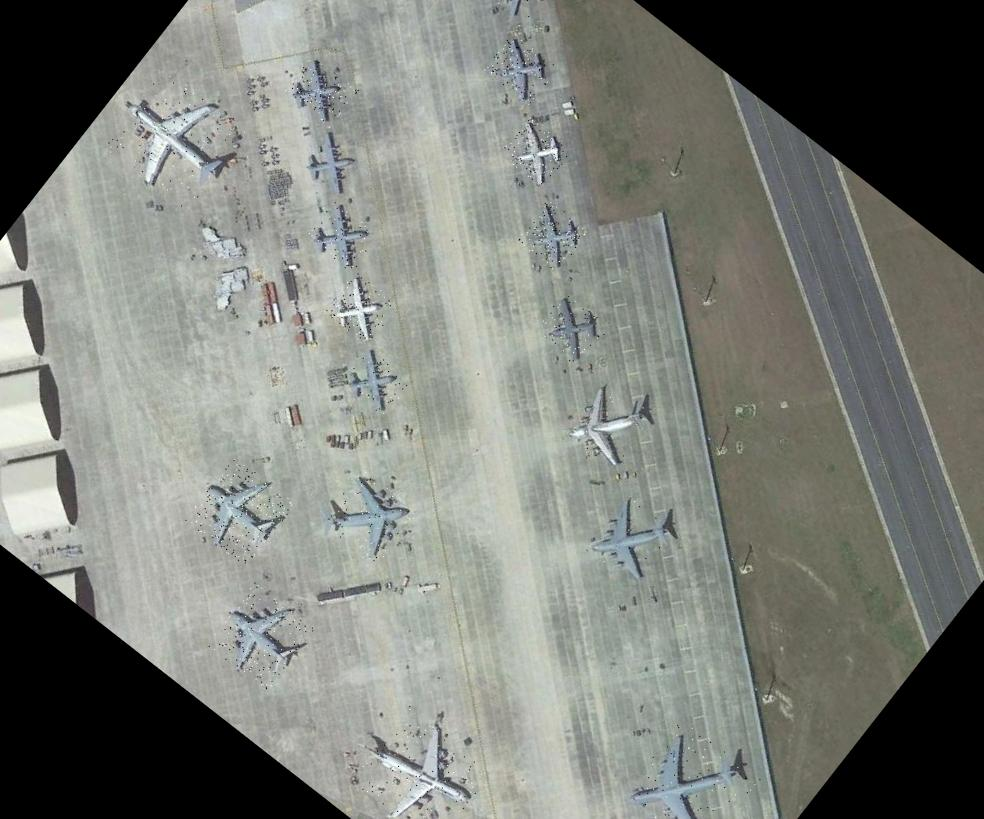A2: (532, 290, 610, 368), (323, 270, 399, 346), (282, 54, 358, 128), (515, 199, 589, 273), (483, 32, 558, 105), (305, 201, 380, 274), (498, 116, 572, 188), (338, 346, 412, 417), (298, 130, 370, 202), (477, 0, 559, 32)
A3: (184, 456, 295, 568), (205, 582, 315, 692), (319, 468, 418, 568), (564, 376, 662, 476), (583, 494, 678, 589)
A4: (102, 67, 248, 212), (348, 703, 494, 819), (622, 718, 762, 819)
